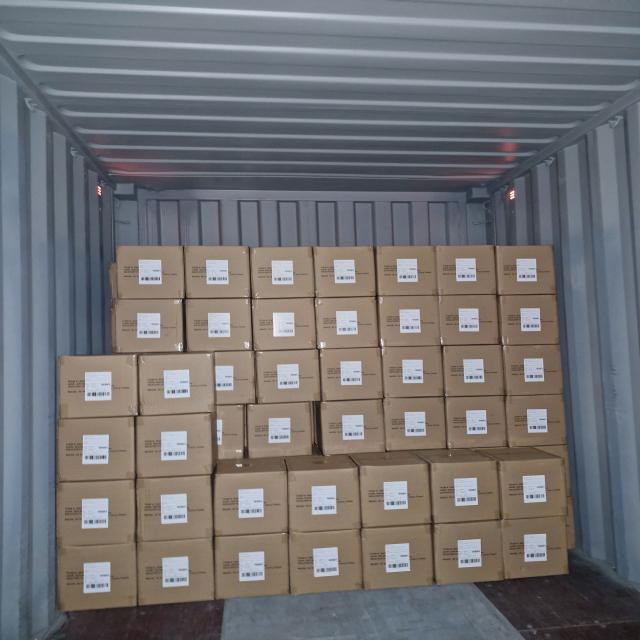Carton: (56, 544, 137, 613), (56, 480, 138, 547), (140, 538, 218, 608), (56, 416, 136, 482), (136, 474, 213, 541), (56, 354, 136, 418), (134, 417, 212, 481), (213, 535, 288, 601), (287, 531, 361, 597), (286, 468, 359, 534), (216, 470, 291, 534), (138, 353, 214, 415), (364, 526, 435, 592), (361, 463, 433, 526), (432, 523, 502, 587), (433, 460, 502, 524), (504, 519, 572, 583), (498, 458, 568, 520), (114, 297, 184, 353), (186, 297, 254, 352), (248, 404, 316, 459), (116, 248, 185, 302), (321, 401, 386, 456), (186, 248, 252, 302), (256, 349, 320, 404), (320, 345, 382, 400), (384, 398, 446, 452), (253, 248, 316, 301), (444, 345, 506, 398), (508, 396, 570, 449), (317, 296, 380, 348), (383, 344, 444, 397), (447, 398, 508, 451), (254, 300, 316, 352), (380, 294, 442, 346), (316, 248, 379, 299), (498, 293, 560, 344), (504, 344, 564, 396), (438, 295, 499, 346), (376, 247, 436, 298), (498, 246, 556, 296), (437, 247, 496, 296), (213, 349, 254, 405), (215, 406, 245, 461)
